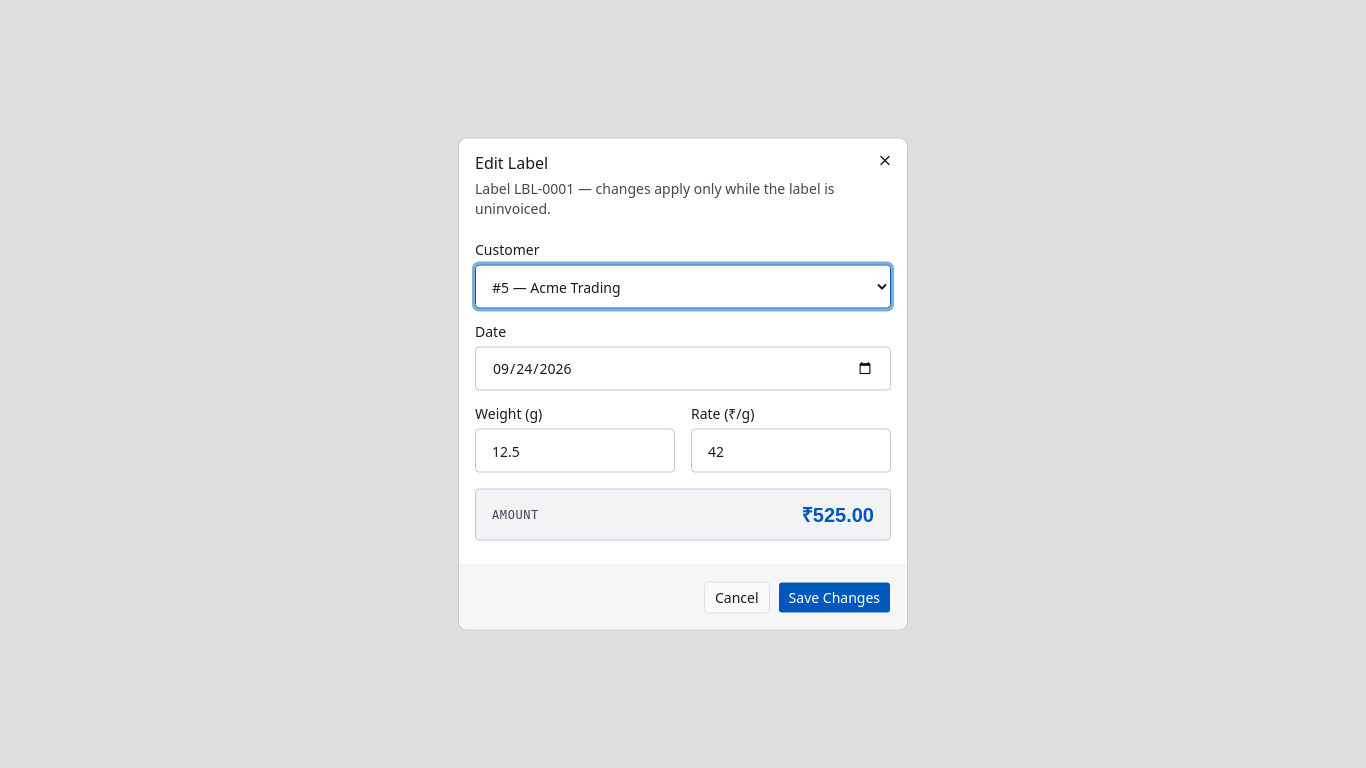
Test: LabelEditDialog › rejects a zero or negative weight
Replace the text in the number field labelled "Weight (g)" with "0" at [575, 450], box [475,428,675,472]
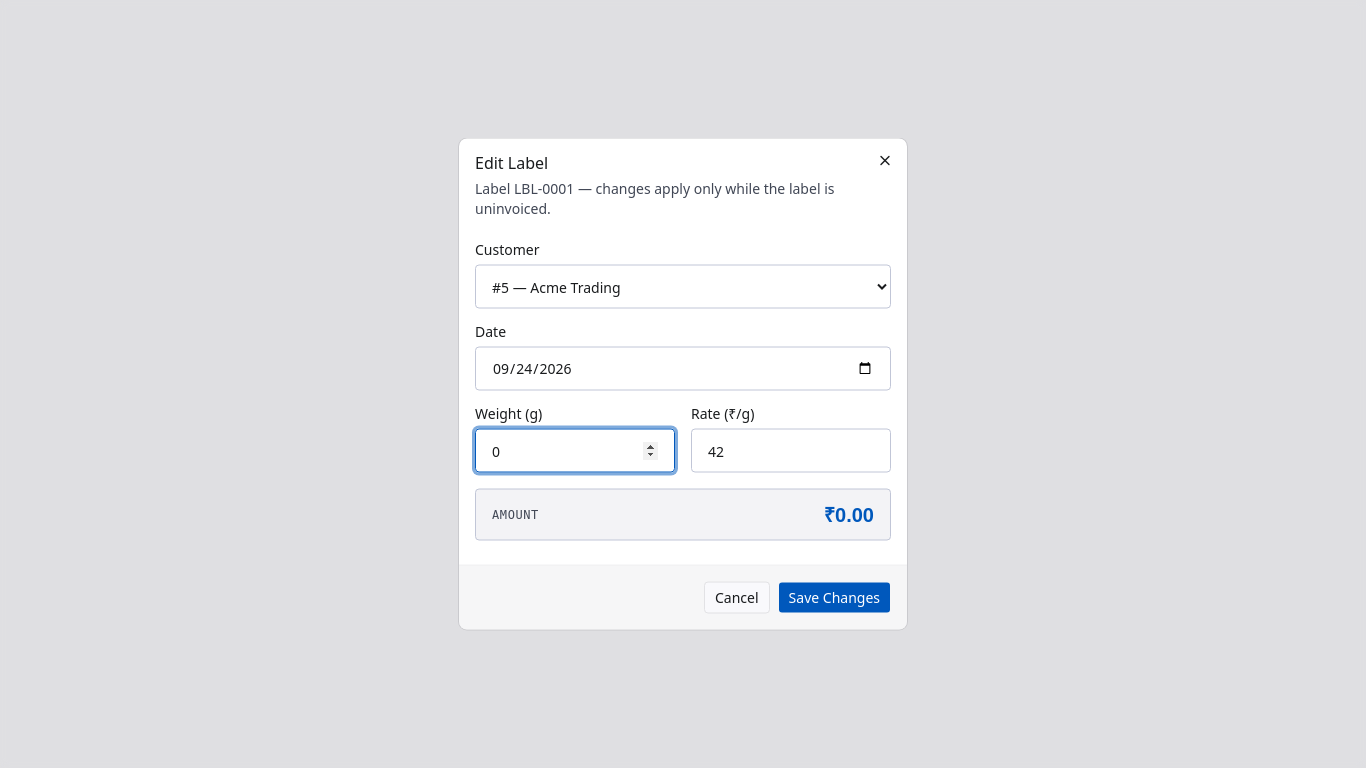
Click the button "Save Changes".
click(834, 598)  # box [778,582,891,614]
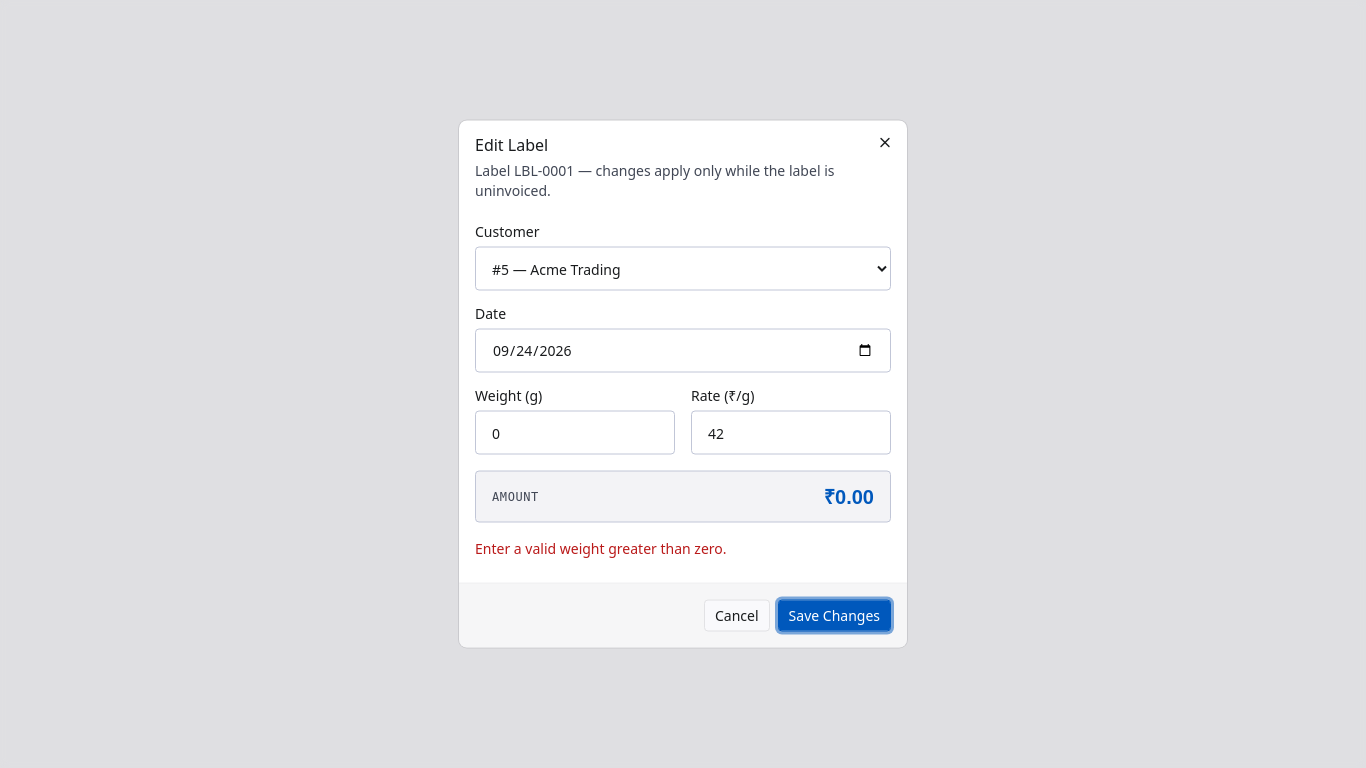
Result: the text "Enter a valid weight greater than zero." is shown at [475,538,726,558]
